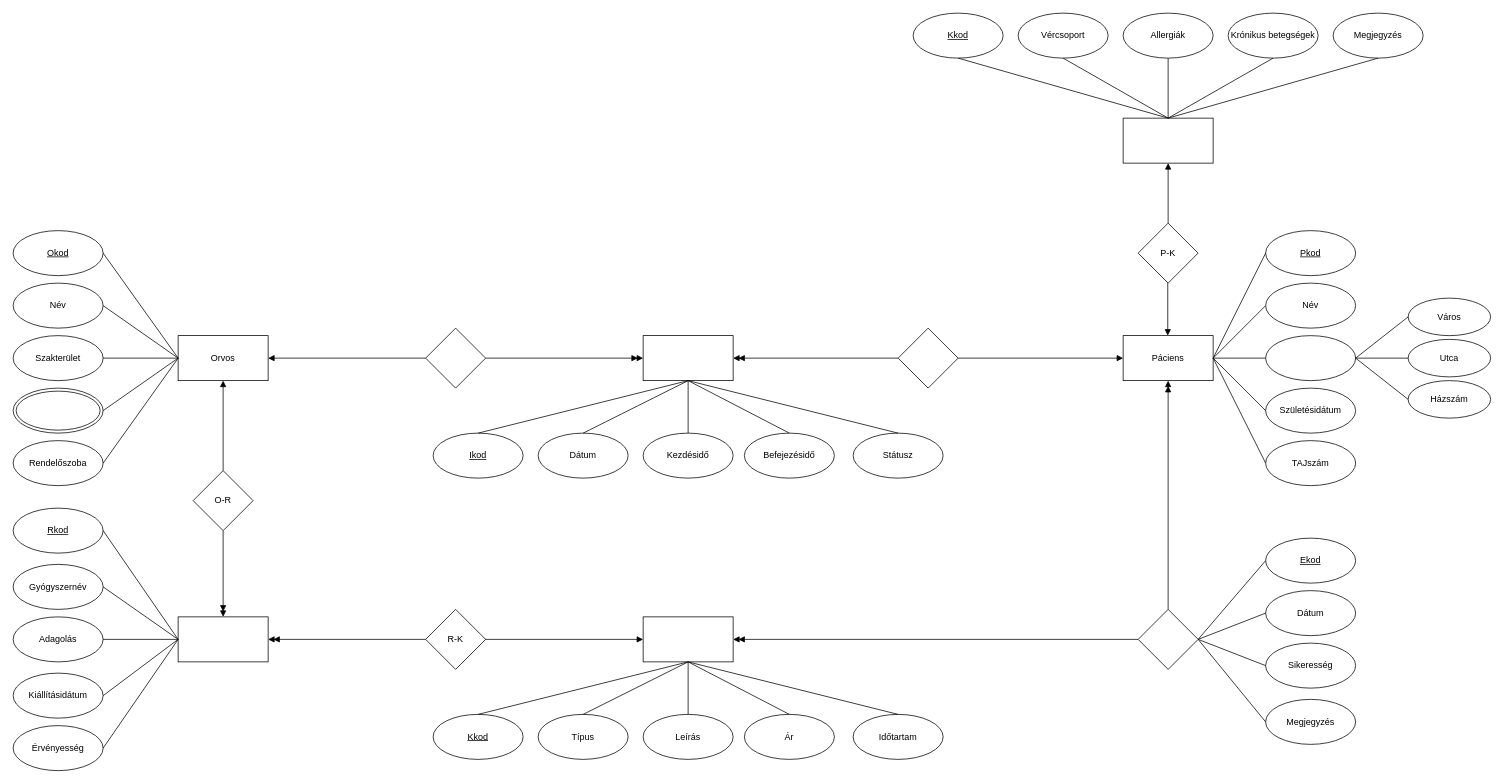
Some shapes in this 1504 by 784 pixel diagram are drawn without their labels. Here are the shapes that lost their labels. From the top down, the centre of each, then its label:
At point (1167, 140): "Karton".
At point (455, 357): "Rendel".
At point (687, 358): "Időpont".
At point (927, 357): "Foglal".
At point (1310, 358): "Cím".
At point (57, 410): "Telefonszám".
At point (222, 639): "Recept".
At point (687, 639): "Kezelés".
At point (1167, 639): "Elvégzett kezelés".
